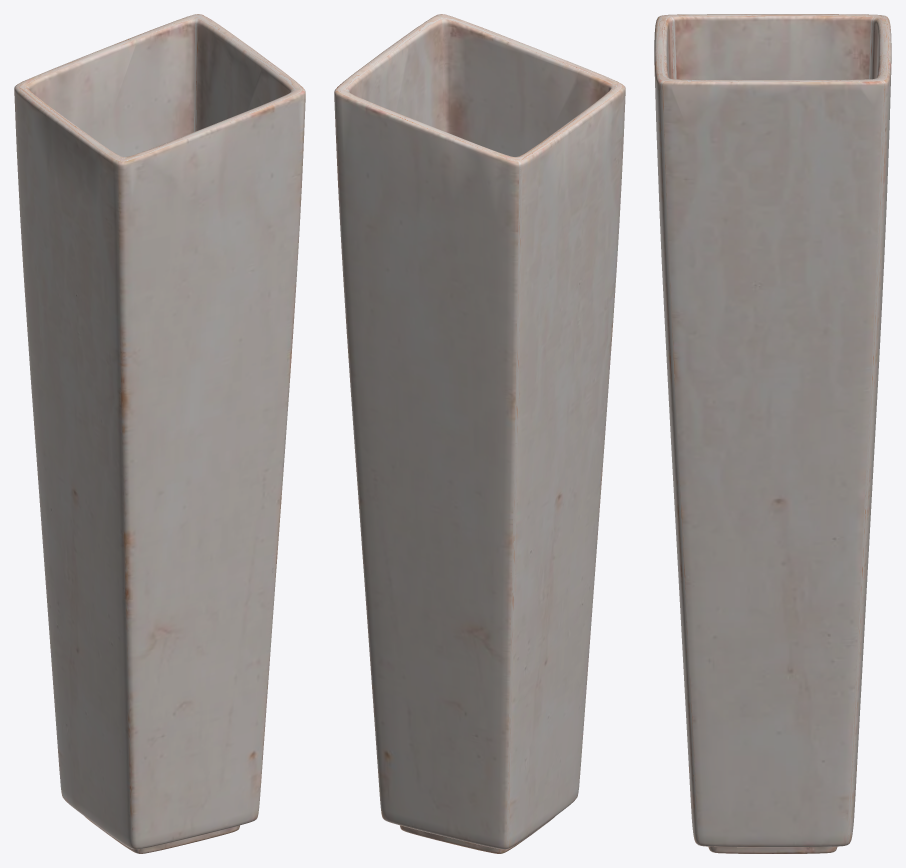
File: ceramic_vase_03.glb
The picture shows the model from 3 angles, left to right: view 1: azimuth 30°, elevation 25°; view 2: azimuth 150°, elevation 25°; view 3: azimuth 270°, elevation 25°; orthographic projection. The views are drawn at different scales.
Parts seen in each view (by area): view 1: ceramic_vase_03; view 2: ceramic_vase_03; view 3: ceramic_vase_03.
Boxes of the visible parts, <box> form: ceramic_vase_03: <box>14,14,305,853</box>; ceramic_vase_03: <box>334,14,625,853</box>; ceramic_vase_03: <box>654,14,891,853</box>.
Size of the model in its own units: 0.1122 by 0.4143 by 0.1122.
Materials: 1 (1 with a texture image).
